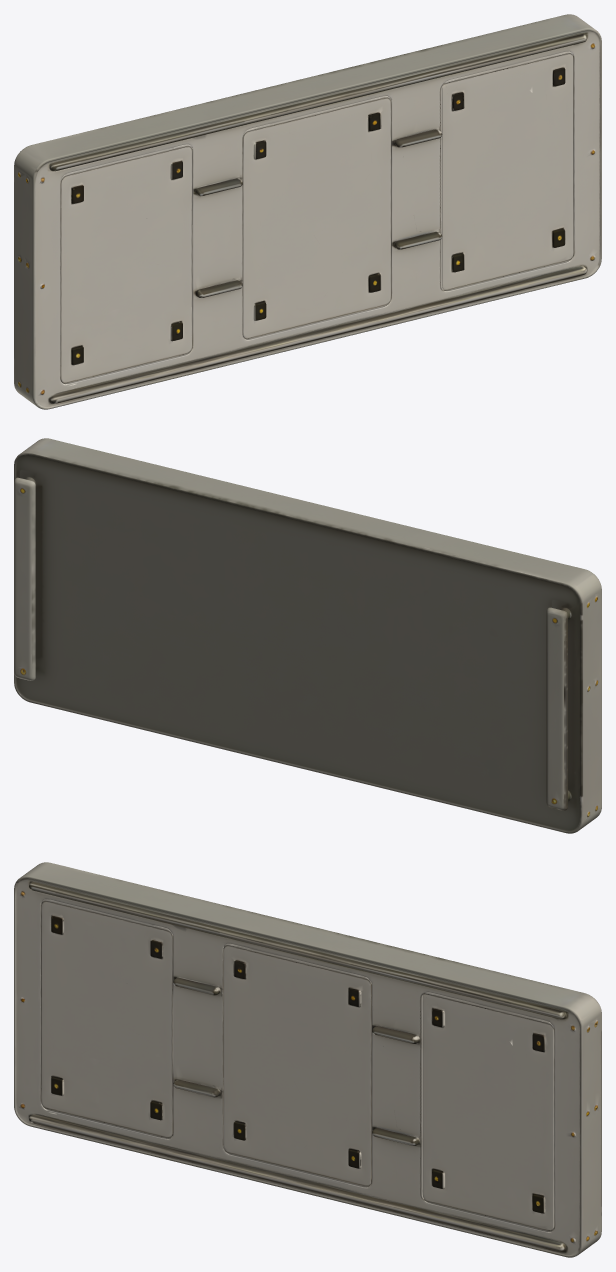
Rendered from starboard-liner-v1.glb.
3 renders of one model, top to bottom at view 1: azimuth 30°, elevation 25°; view 2: azimuth 150°, elevation 25°; view 3: azimuth 330°, elevation 25°, orthographic.
Parts seen in each view (by area): view 1: node_0; view 2: node_0; view 3: node_0.
Boxes of the visible parts, <box> form: node_0: <box>14,14,601,409</box>; node_0: <box>14,438,601,833</box>; node_0: <box>14,862,601,1257</box>.
Bounding box in the file's own units: 1.12 × 0.471 × 0.1143.
Materials: 1 (1 with a texture image).
